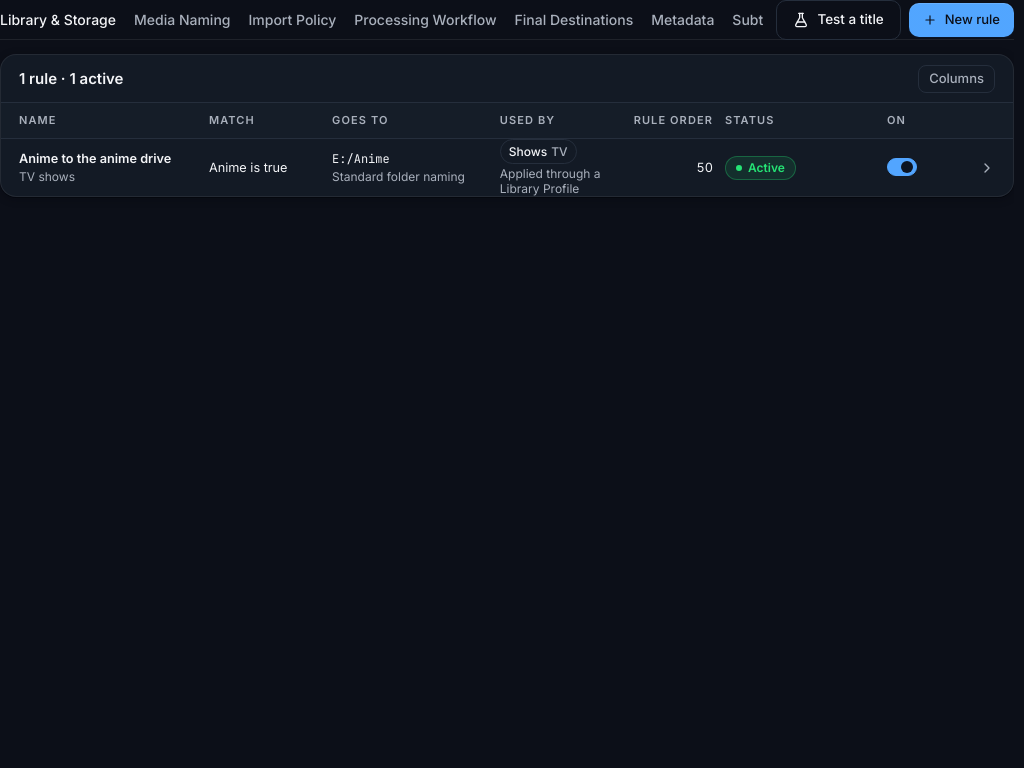
an existing rule › opens with its own values, a Save rule button and a Delete section
Click the text "Anime to the anime drive" at x=108, y=159, box [19, 151, 197, 167]
(page scrolled)
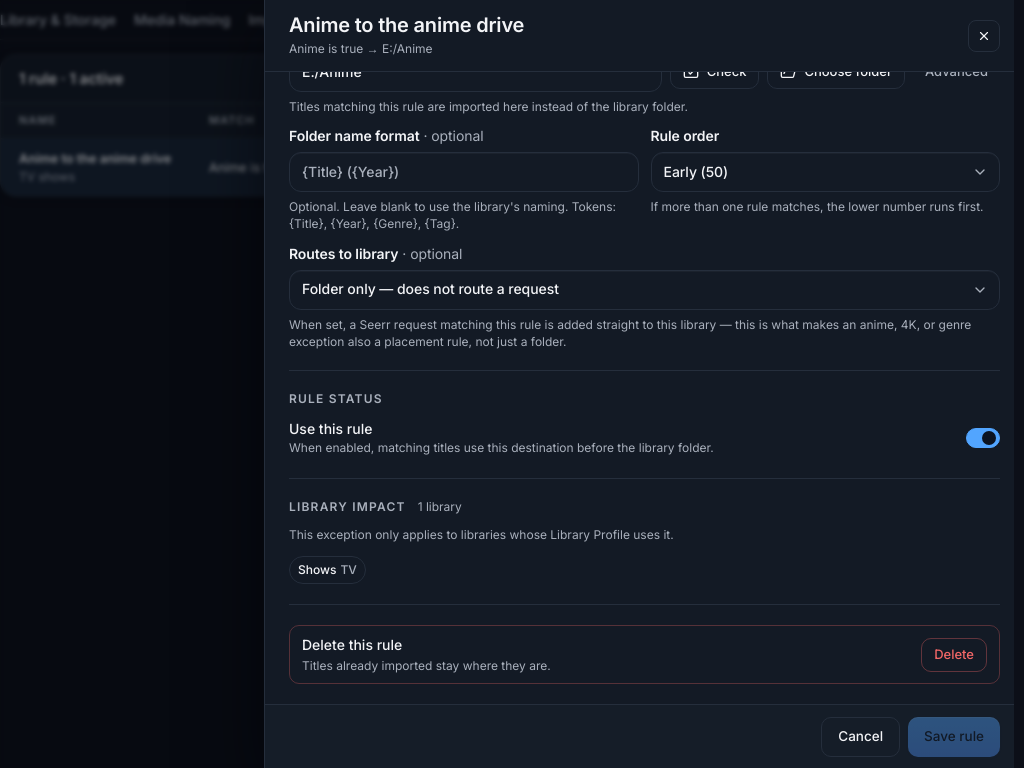
expect the button "Save rule" is shown: met, box [908, 716, 1000, 756]
expect the text "Delete this rule" is shown: met, box [302, 636, 402, 653]
expect the text "1 library" is shown: met, box [418, 499, 462, 514]
